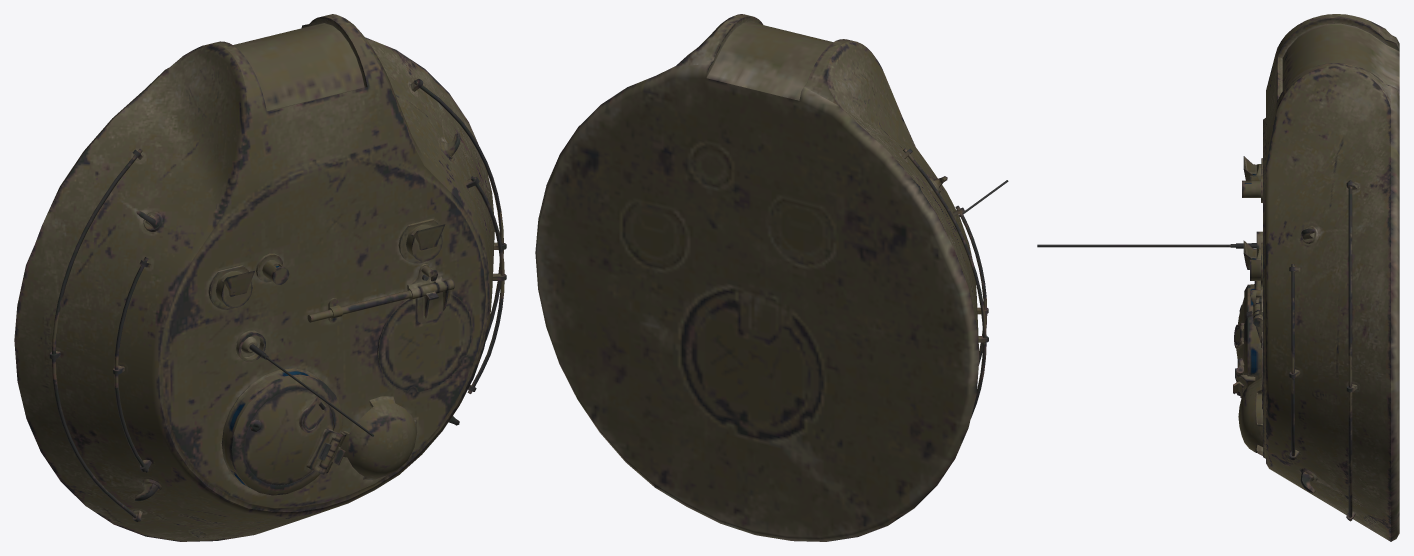
The model's file is Turret_01.glb.
3 views of the same model, side by side, from view 1: azimuth 30°, elevation 25°; view 2: azimuth 150°, elevation 25°; view 3: azimuth 270°, elevation 25° (orthographic). The views are drawn at different scales.
Parts seen in each view (by area): view 1: set_0_group_0; view 2: set_0_group_0; view 3: set_0_group_0.
Boxes of the visible parts, x1,y1,x2,y2 form: set_0_group_0: [14, 14, 506, 541]; set_0_group_0: [535, 14, 1008, 541]; set_0_group_0: [1037, 14, 1399, 541].
Size of the model in its own units: 2.59 by 2.7 by 1.86.
1 material, 1 textured.
